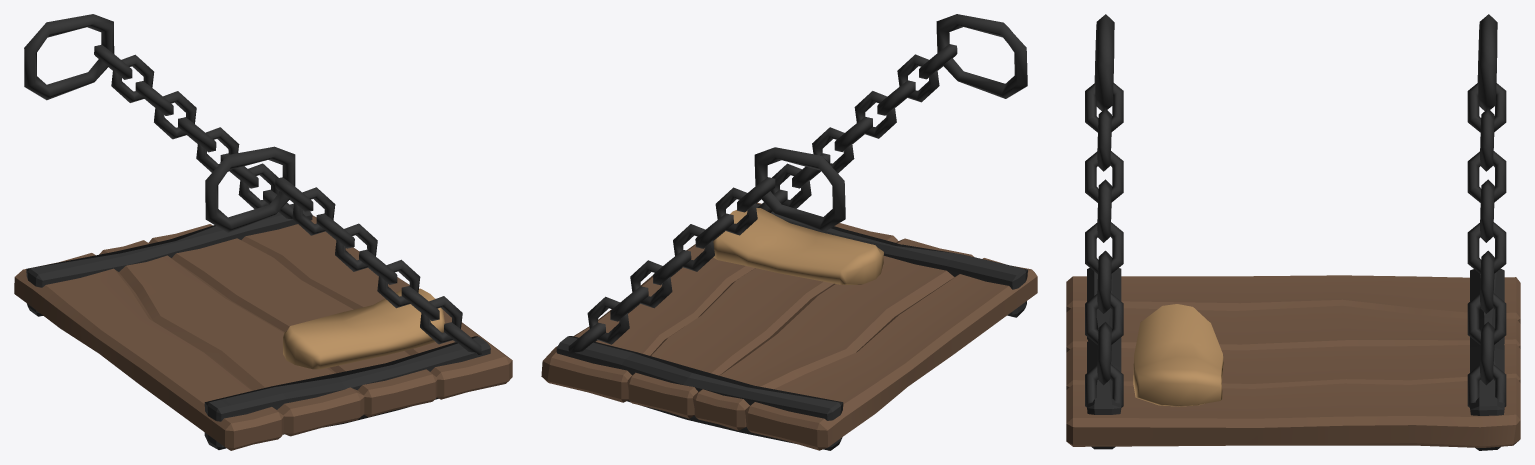
File: wallbed.fbx
3 views of the same model, side by side, from view 1: azimuth 30°, elevation 25°; view 2: azimuth 150°, elevation 25°; view 3: azimuth 270°, elevation 25° (orthographic). The views are drawn at different scales.
Parts seen in each view (by area): view 1: StoneWall_Rocks; view 2: StoneWall_Rocks; view 3: StoneWall_Rocks.
Part boxes in pixels (x1=…): StoneWall_Rocks: x1=14, y1=14, x2=512, y2=450; StoneWall_Rocks: x1=541, y1=14, x2=1037, y2=450; StoneWall_Rocks: x1=1066, y1=14, x2=1520, y2=450.
Size of the model in its own units: 0.8001 by 0.7605 by 1.01.
